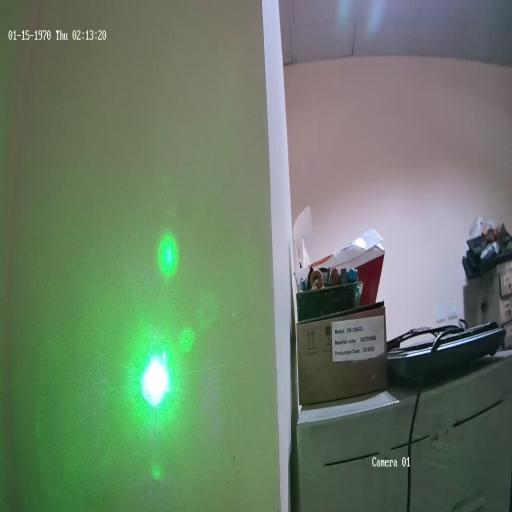laser: (138, 343, 173, 412)
